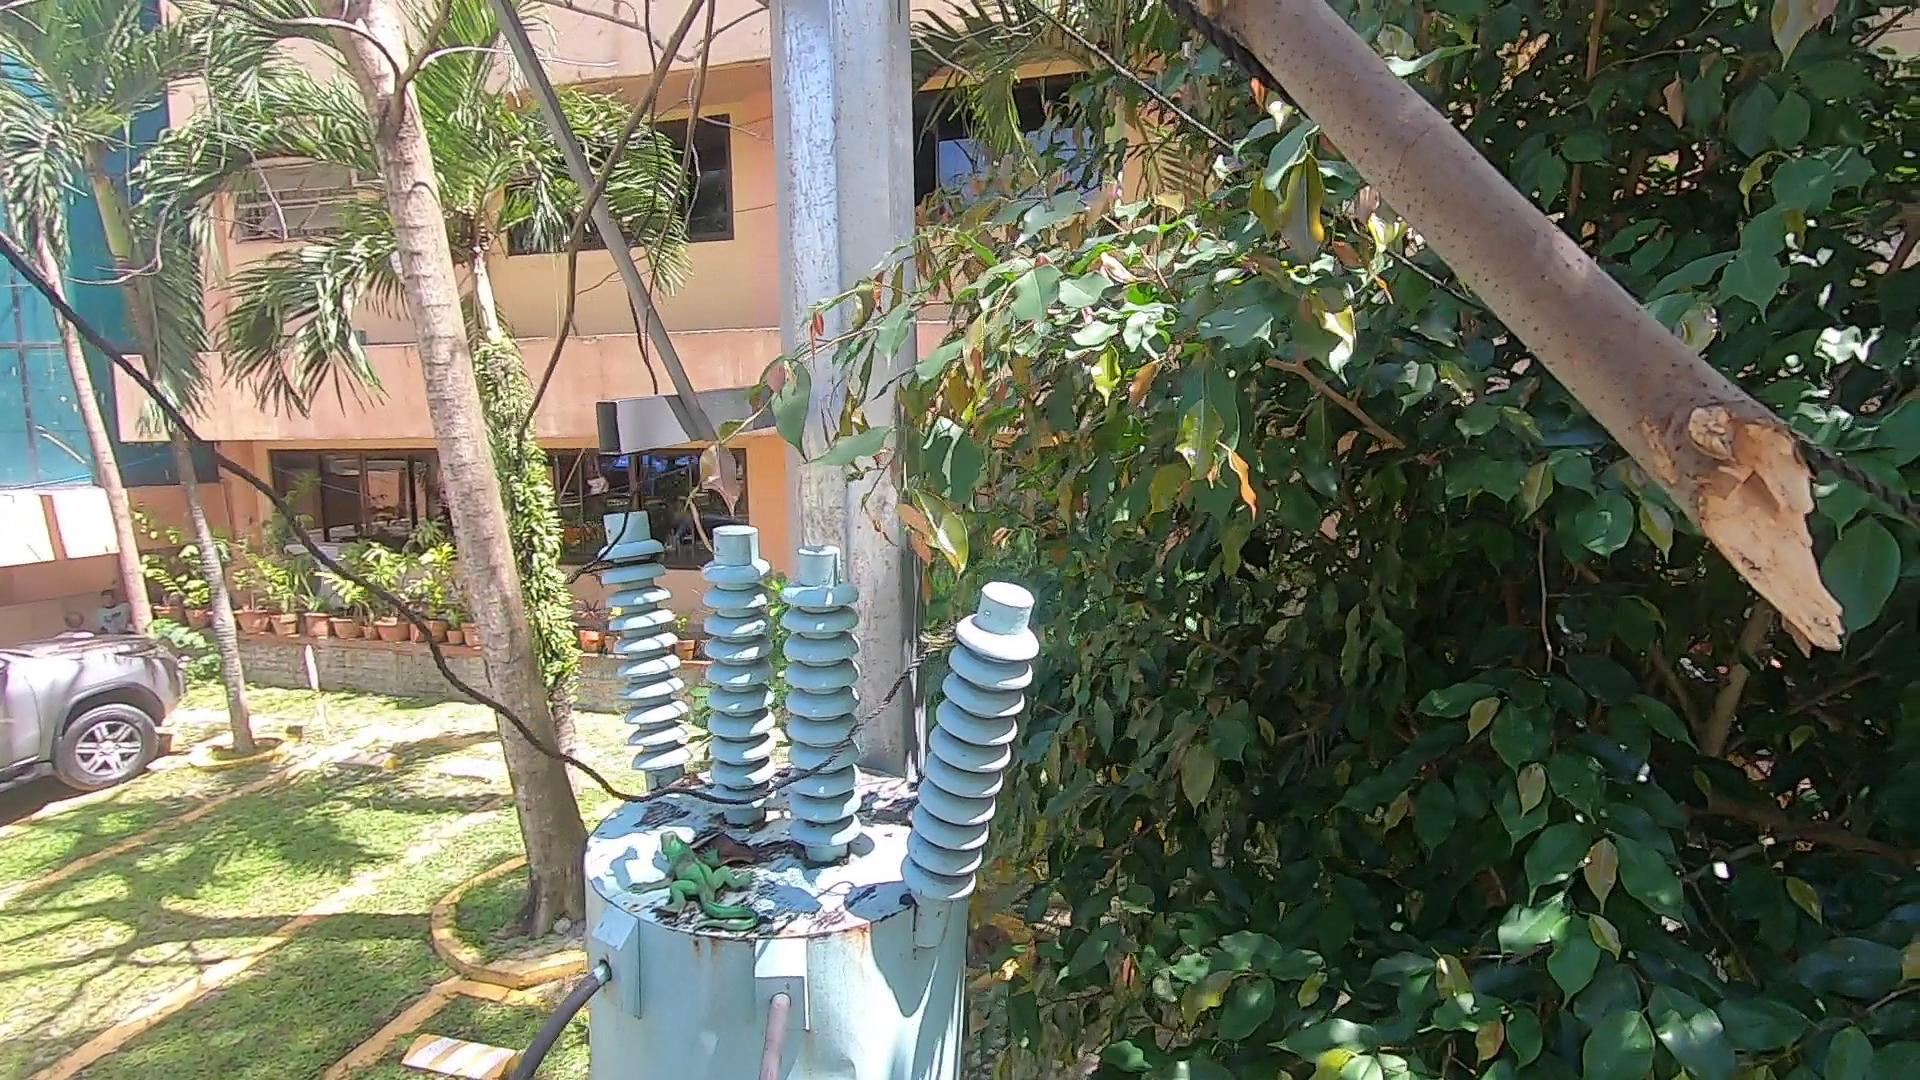branch with leaves: (669, 303, 1035, 584)
leaf: (694, 814, 779, 886), (839, 781, 910, 829), (662, 767, 724, 803)
tree branch: (1149, 7, 1874, 686)
